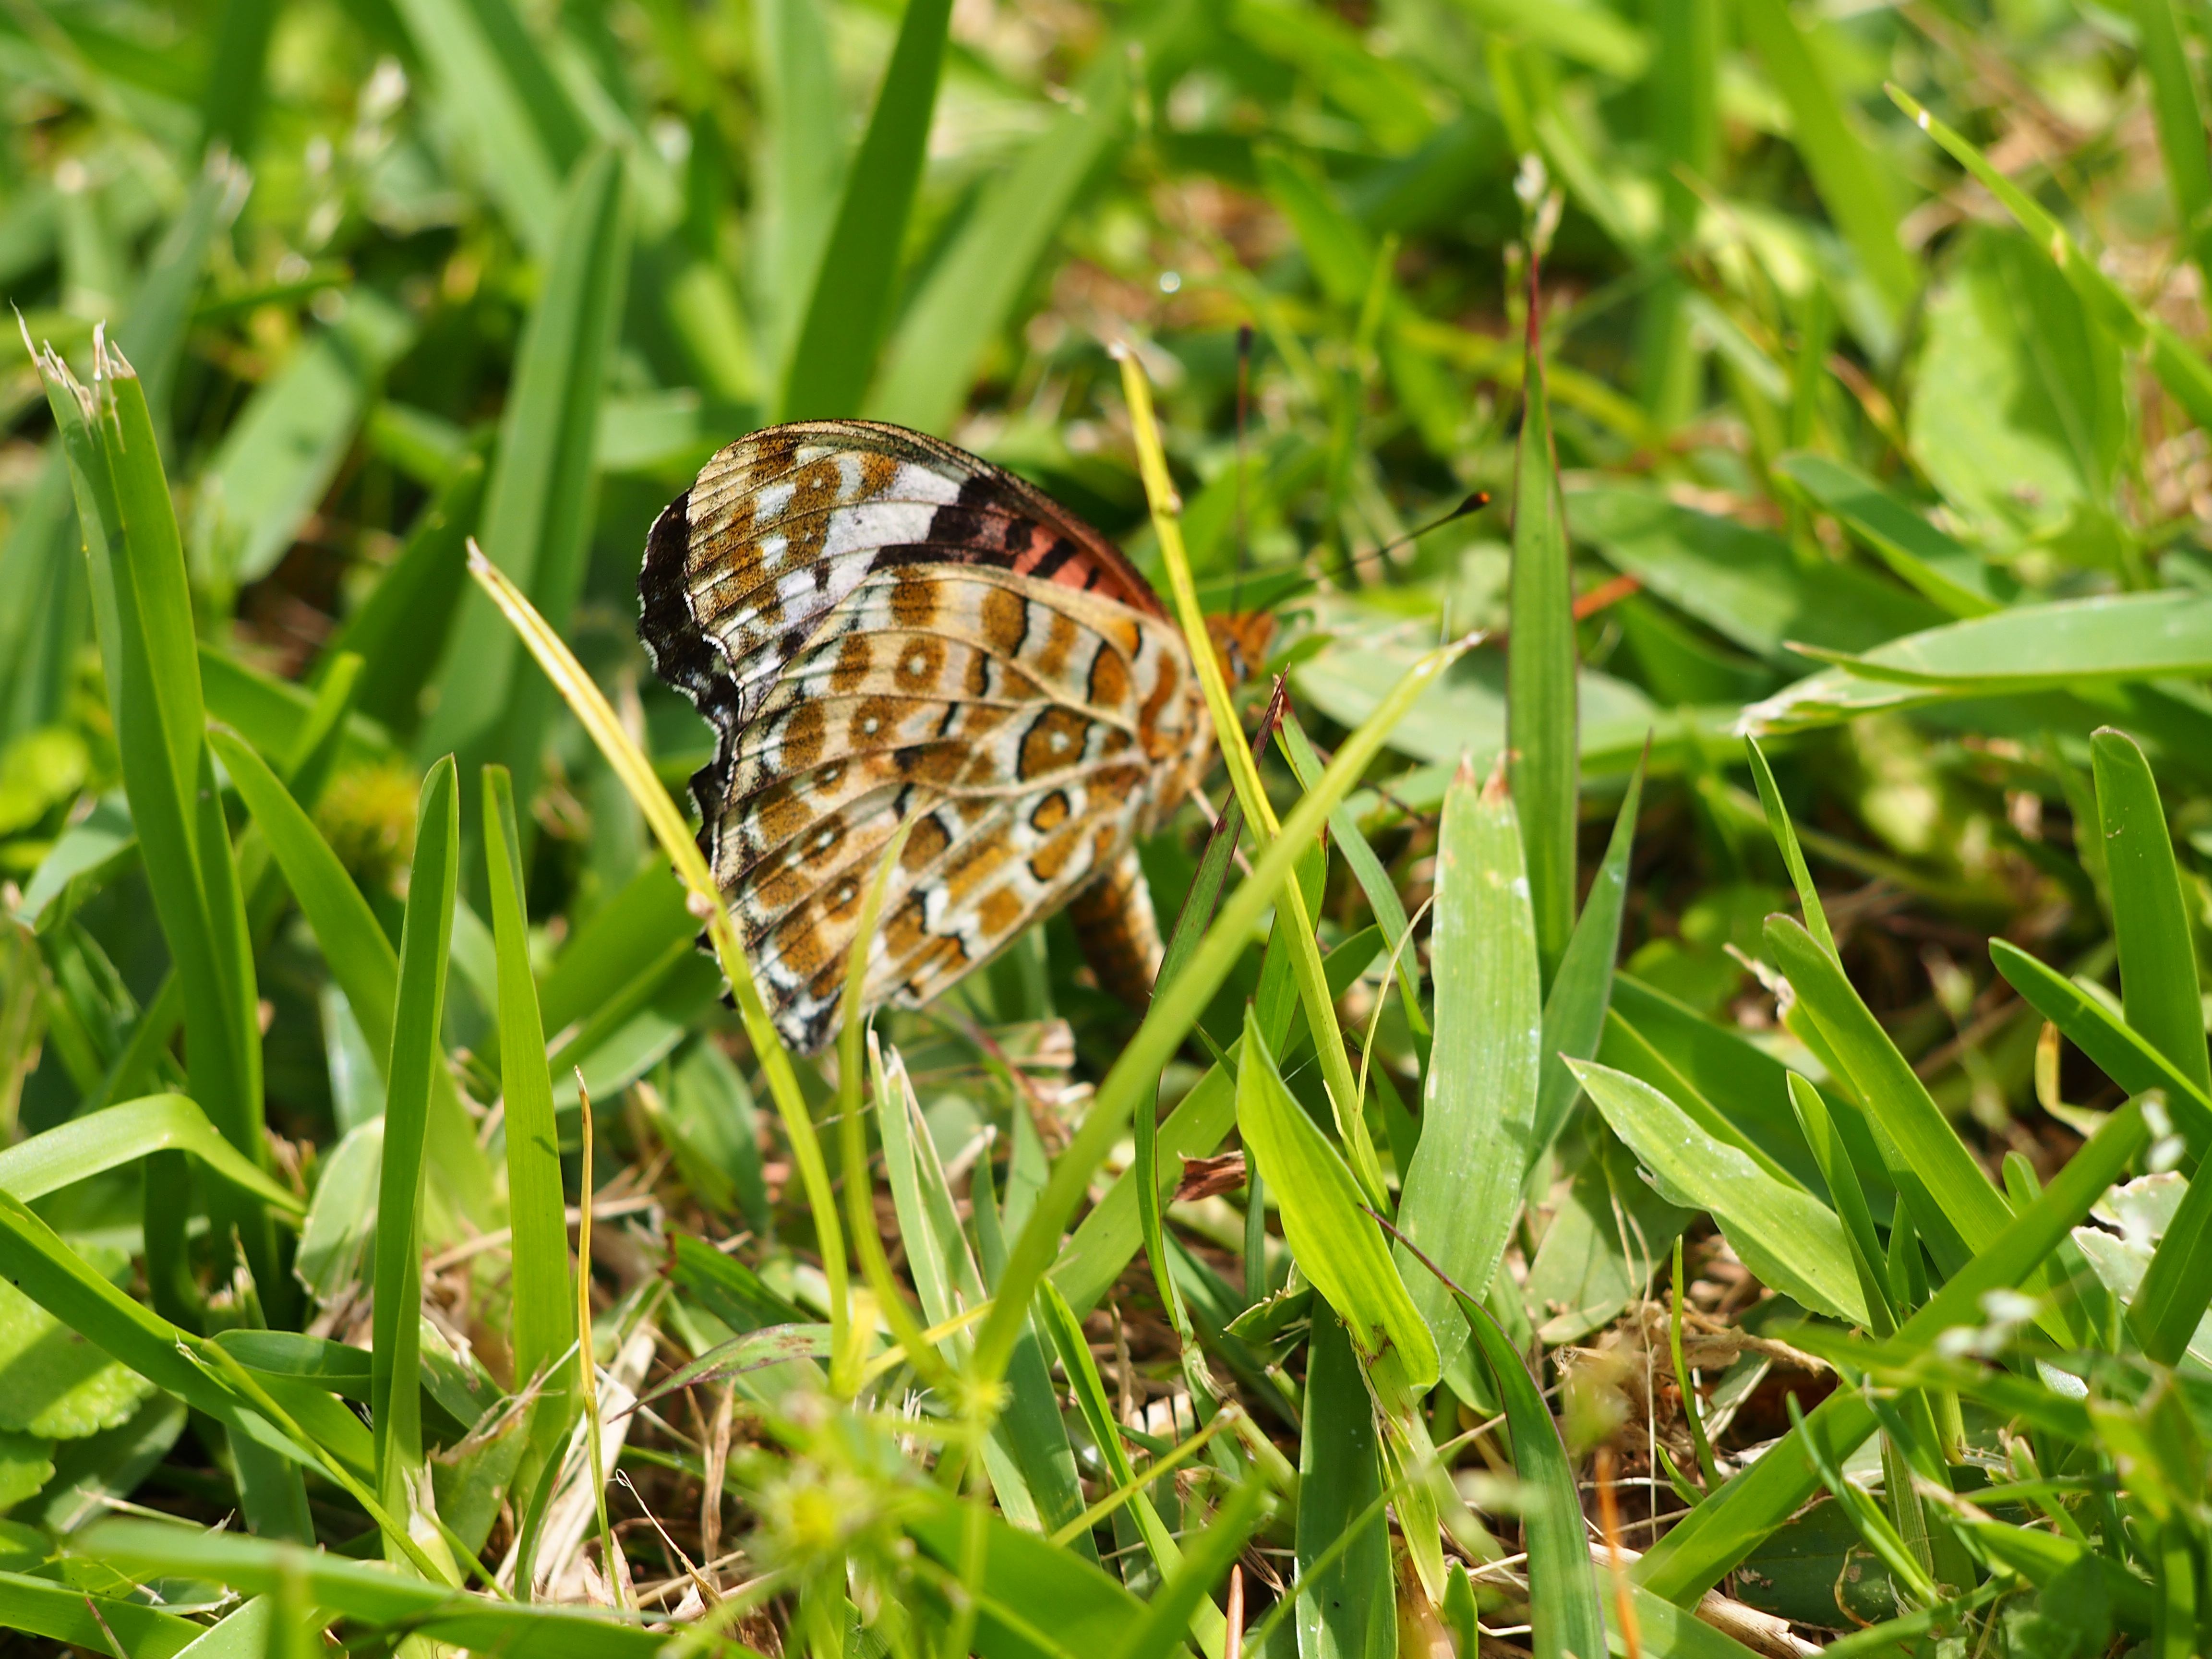Argyreus hyperbius: (613, 312, 1503, 1060)
butterfly: (613, 314, 1505, 1060)
